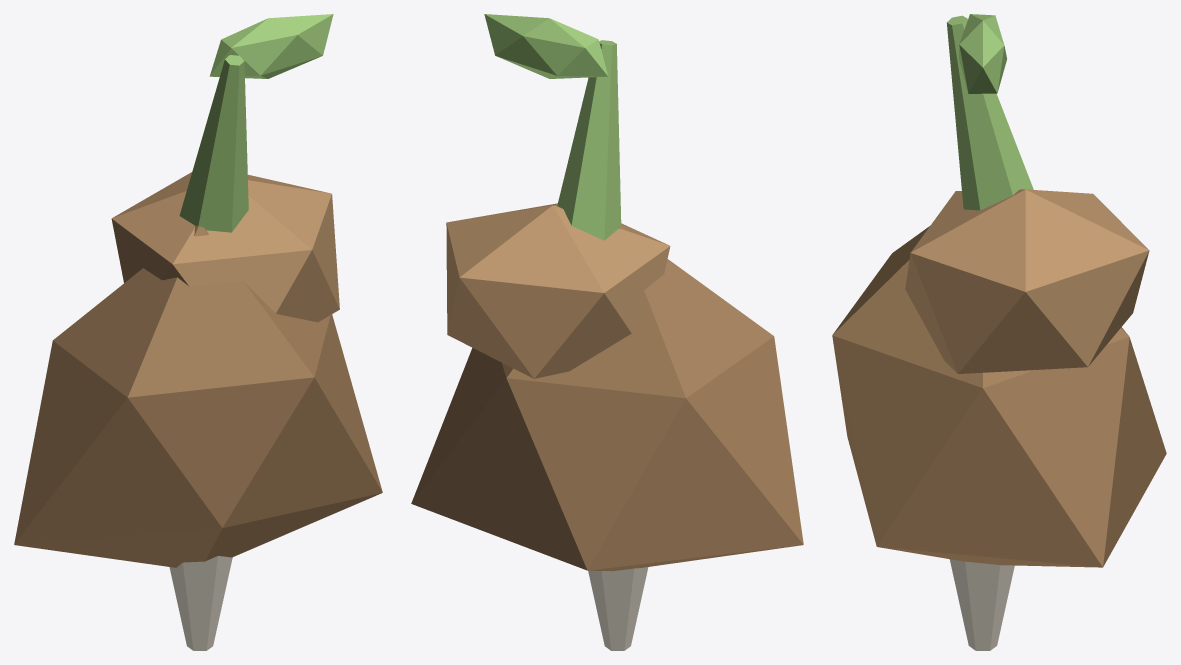
File: root_seed.glb
3 views of the same model, side by side, from view 1: azimuth 30°, elevation 25°; view 2: azimuth 150°, elevation 25°; view 3: azimuth 270°, elevation 25° (orthographic). The views are drawn at different scales.
Parts seen in each view (by area): view 1: model; view 2: model; view 3: model.
Part boxes in pixels (x1,y1,x2,y2): model: (14, 14, 382, 650); model: (411, 14, 803, 650); model: (832, 14, 1166, 650).
Size of the model in its own units: 0.0595 by 0.1029 by 0.0472.
